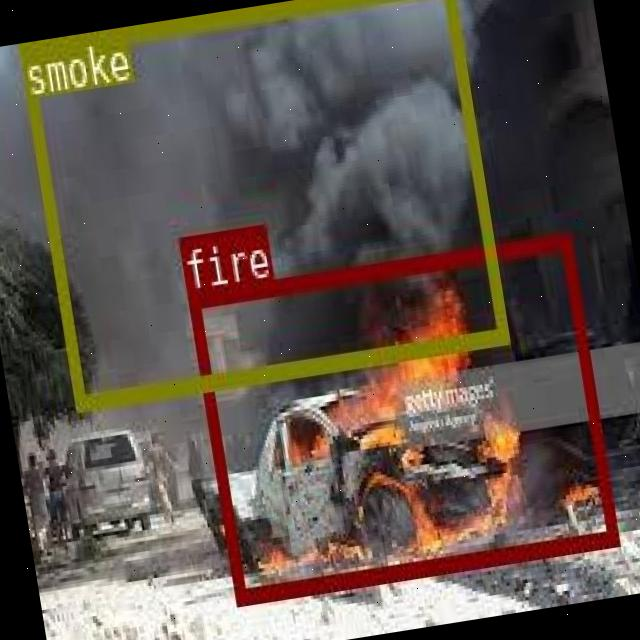fire: (187, 230, 618, 602)
smoke: (16, 0, 508, 406)
